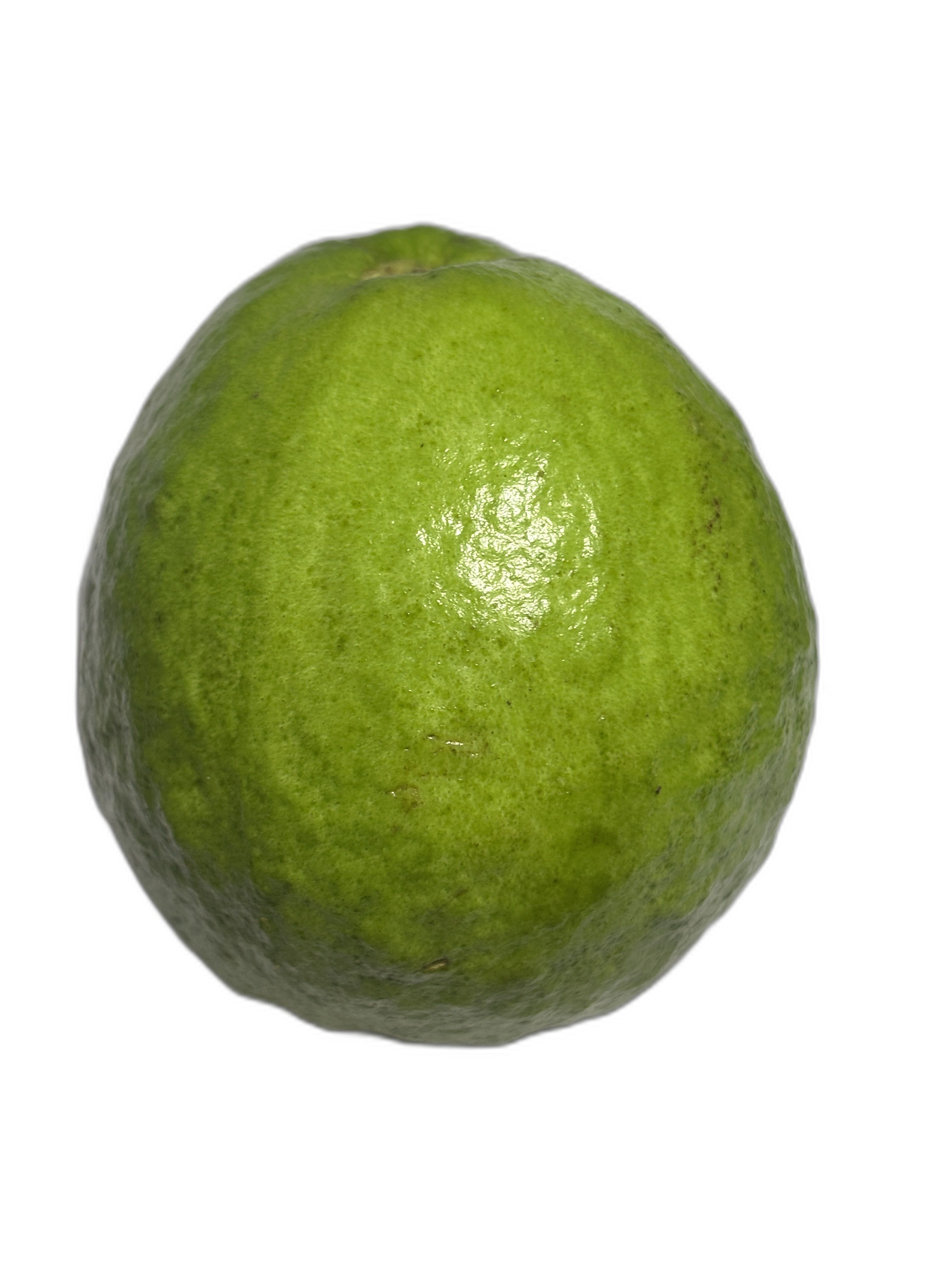guava: (99, 263, 952, 1026)
